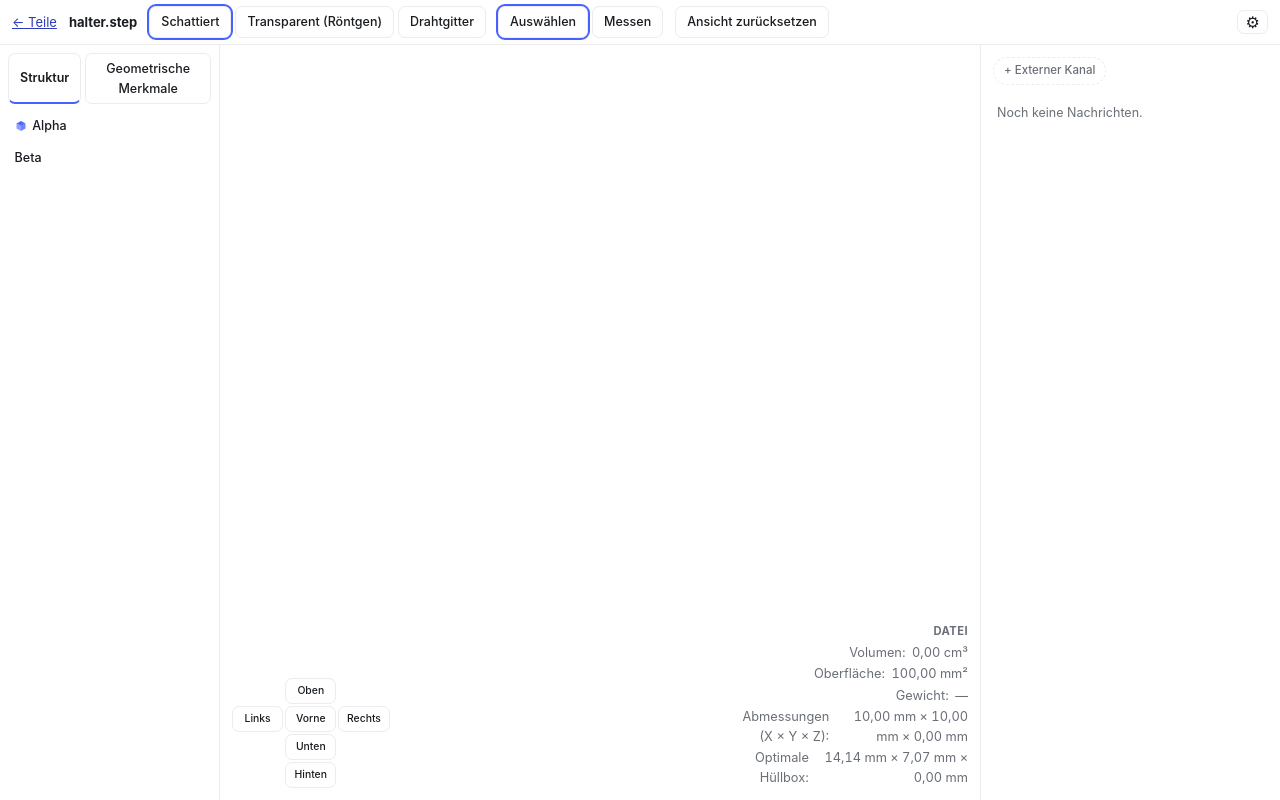
Test: CadViewerPage — rendering limits & isolate (M2.9) › restores full detail when a body is isolated (load drops under budget)
Expected: the number of icons titled "Sammlung über" is 1, [15,120,27,132]
# isolate Alpha → only 3 vertices visible ≤ 4 → no more blue rep
Step 1. Click the button "Alpha" → (110, 126), box [8,112,211,140]
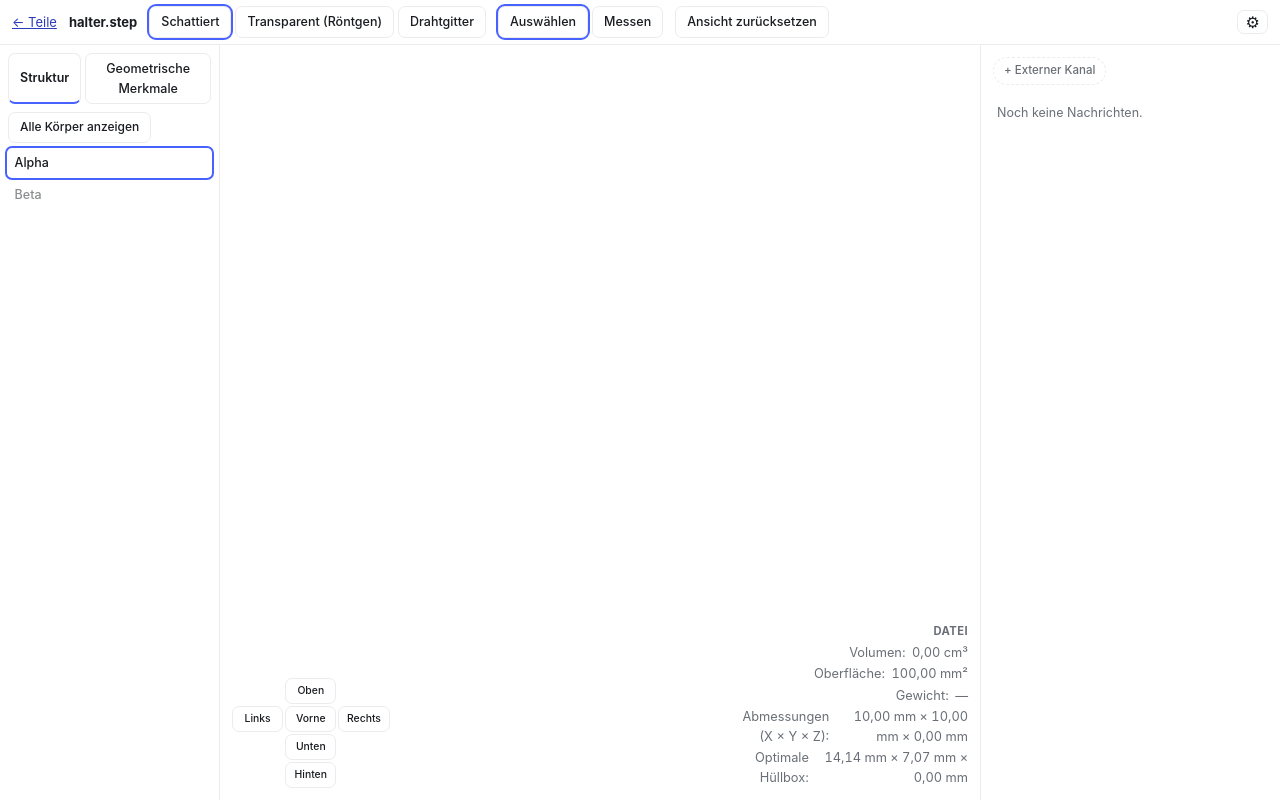
# a "show all" affordance appears while isolated
Step 2. Click the button "Alle Körper anzeigen" → (80, 127), box [8,112,151,142]
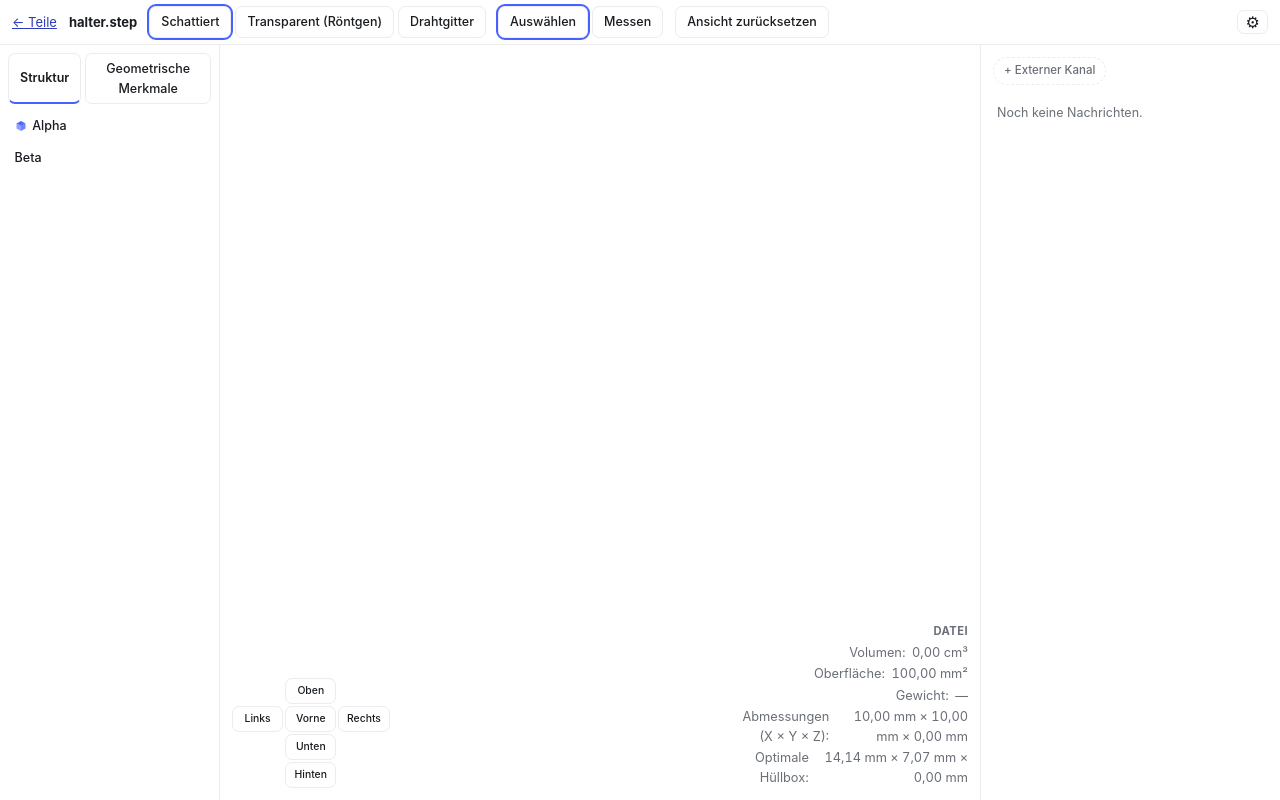
Expected: the number of icons titled "Sammlung über" is 1, [15,120,27,132]
